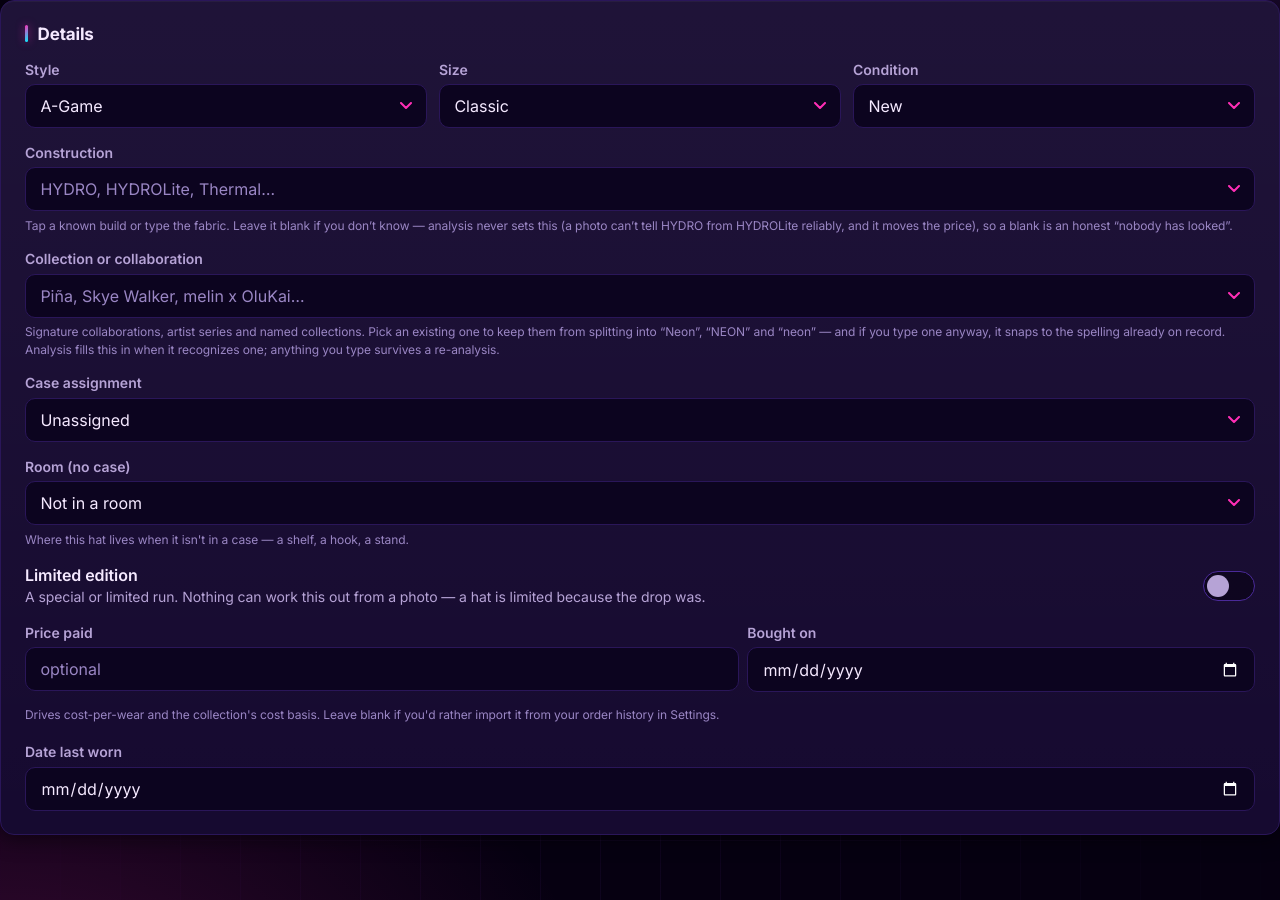
Test: HatBasicsCard › pins the newest cases above the room groups
This screenshot has width=1280, height=900.
Click the dropdown labelled "Case assignment" at (640, 420), box [25,398,1255,442]
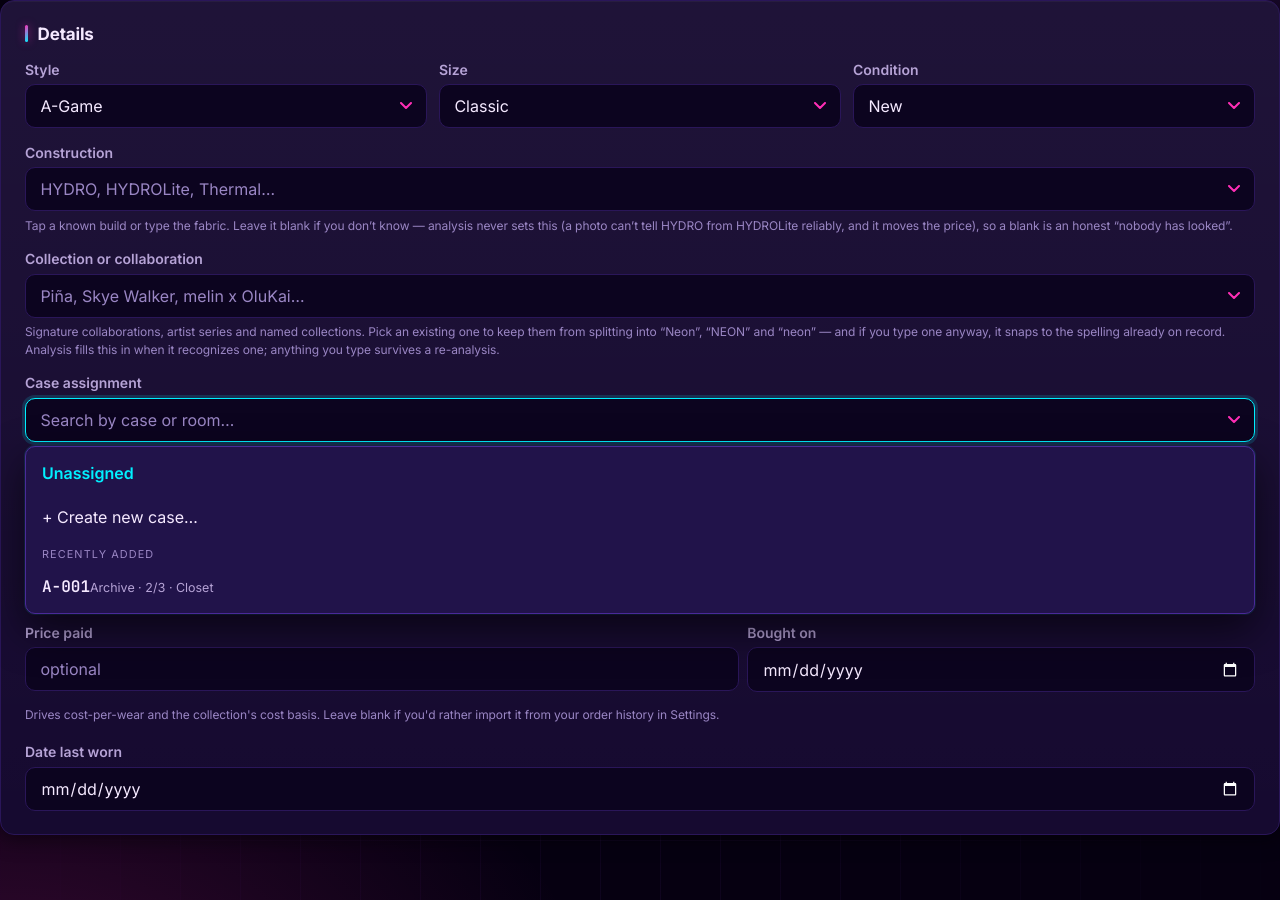
Expected: the text "Recently added" is shown, [42,547,154,561]
Expected: the number of options "A-001Archive · 2/3 · Closet" is 1, [30,565,1250,609]
Type "closet" into the dropdown labelled "Case assignment" at (640, 420), box [25,398,1255,442]
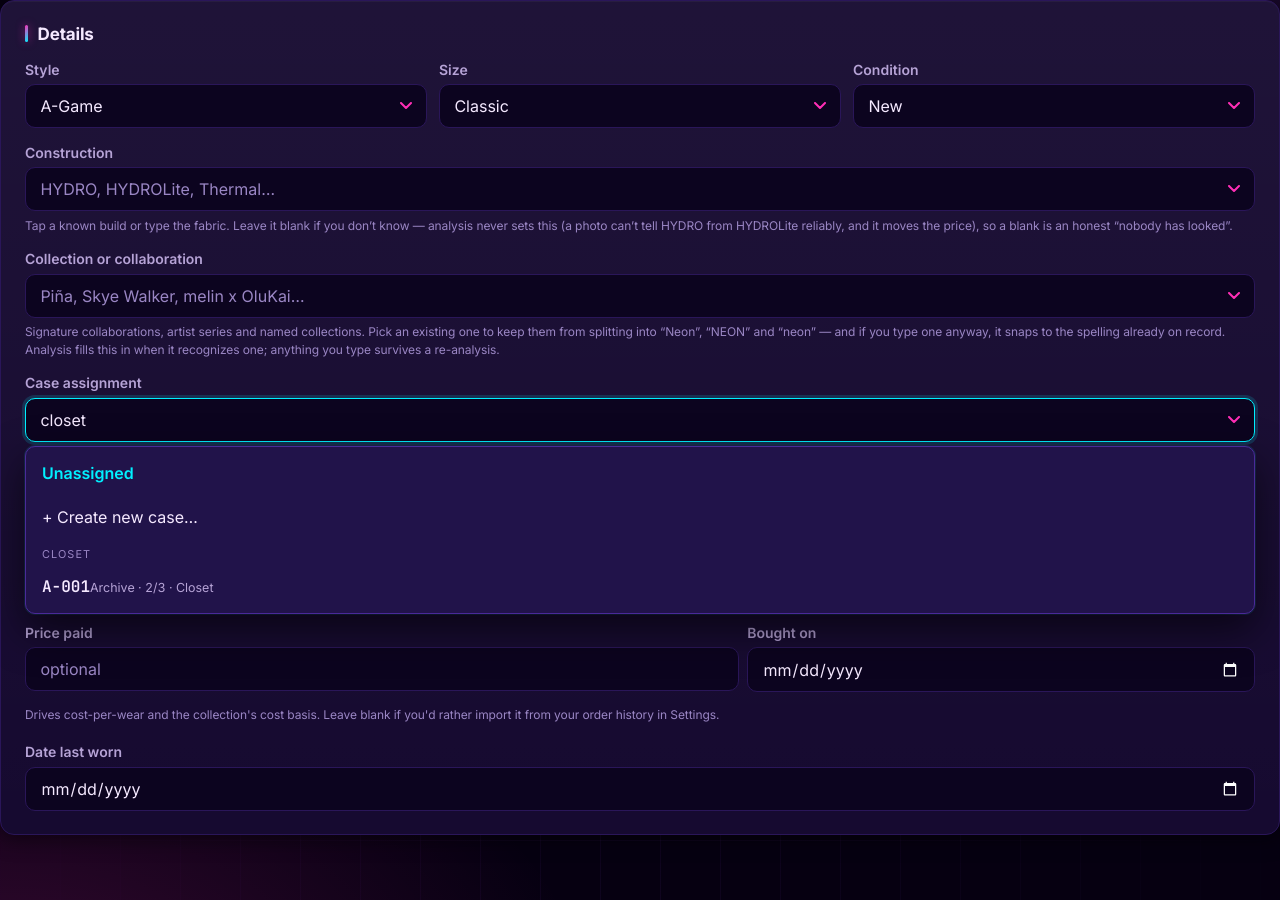
Expected: the text "Recently added" is gone
Expected: the text "Closet" is shown, [42,547,91,561]
